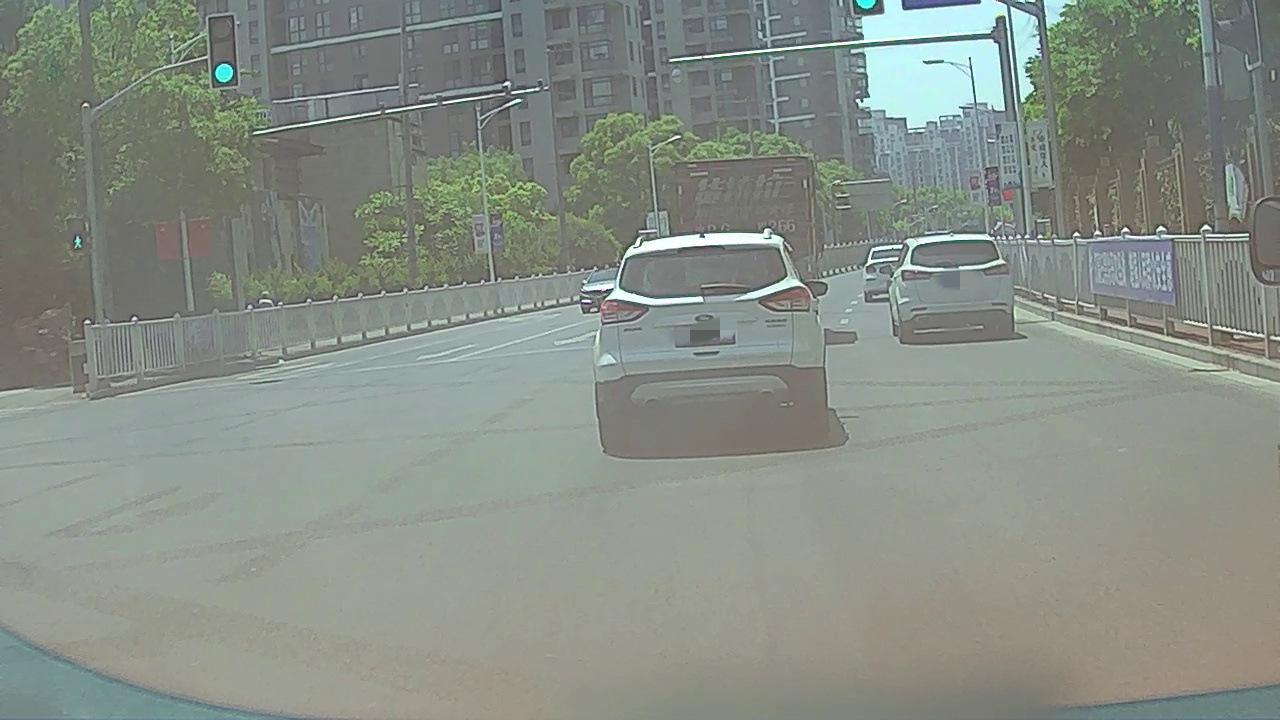traffic_light: (204, 17, 239, 89)
